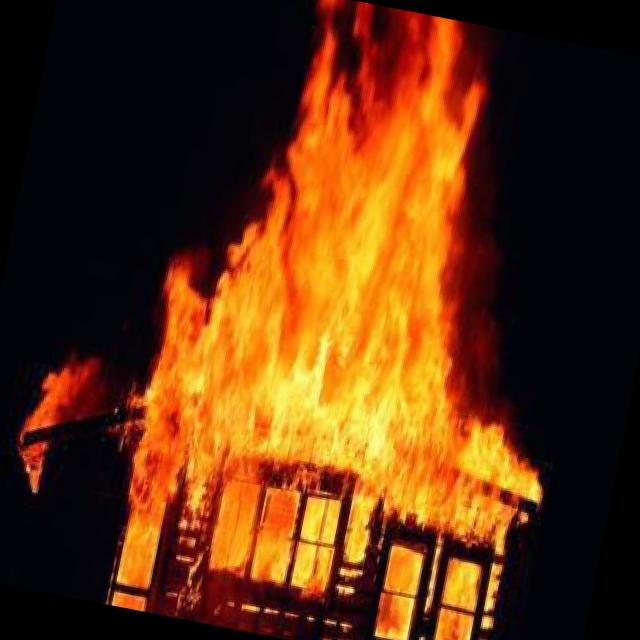Fire: (90, 0, 630, 640), (0, 347, 115, 513)
